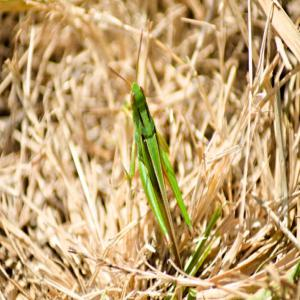locust: (97, 33, 204, 281)
